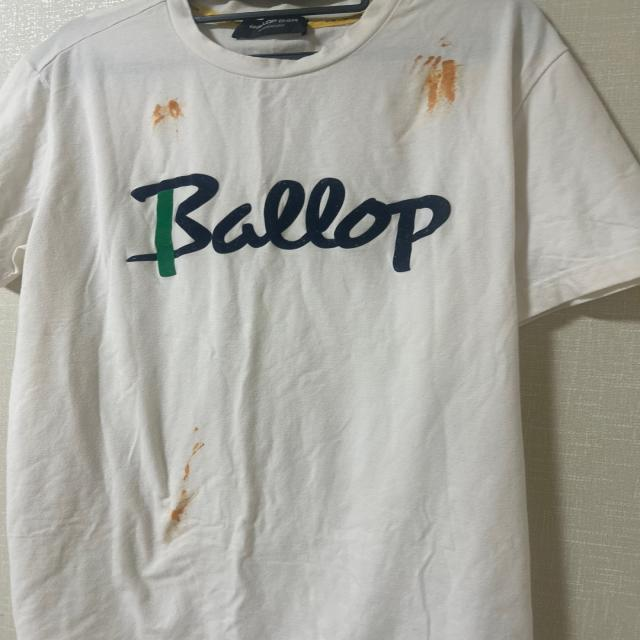stain: (411, 54, 465, 108), (152, 96, 185, 131), (433, 34, 455, 51)
